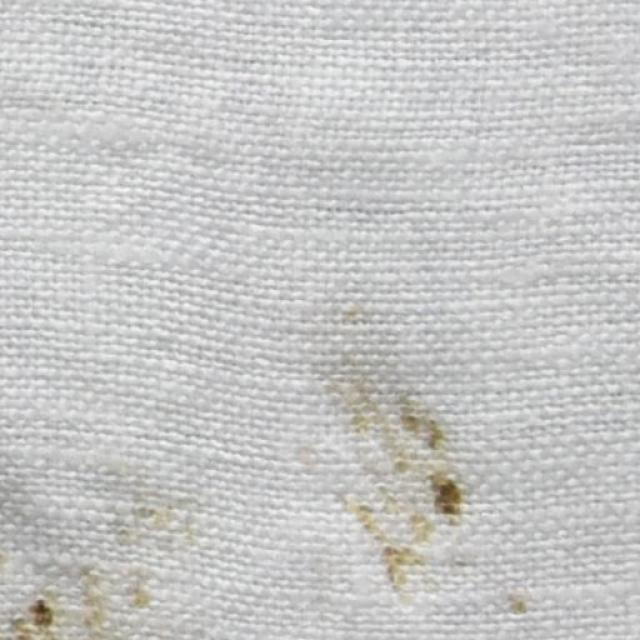Stain: (272, 322, 462, 580), (0, 468, 216, 639)
